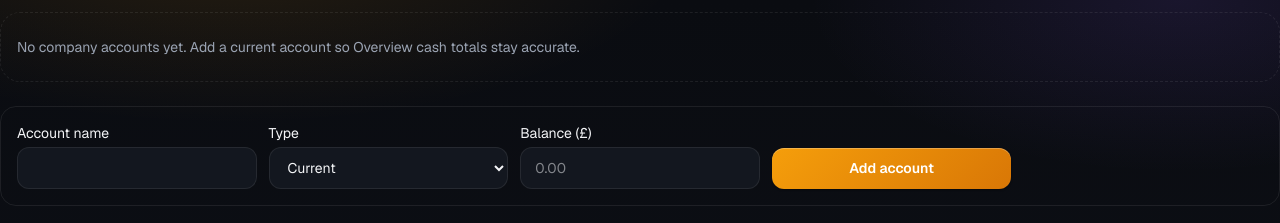
AccountManager › shows a credit limit field for Capital on Tap
Expected: the text "Credit limit (£)" is not shown
Select "Capital on Tap" in the dropdown labelled "Type" at (388, 168), box [269, 147, 508, 189]
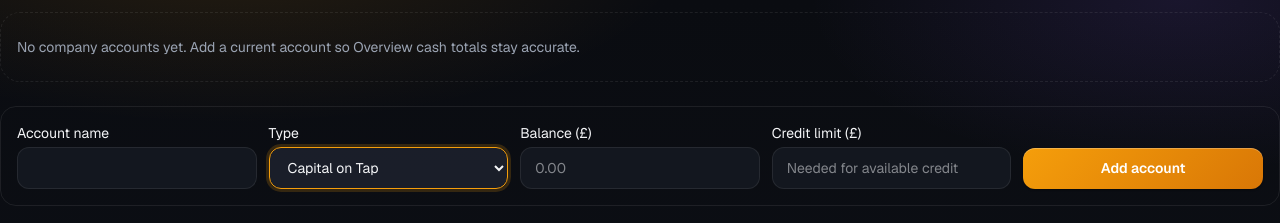
Expected: the text "Credit limit (£)" is shown, [772, 124, 861, 142]
Expected: the field with placeholder "Needed for available credit" is shown, [772, 147, 1011, 189]
